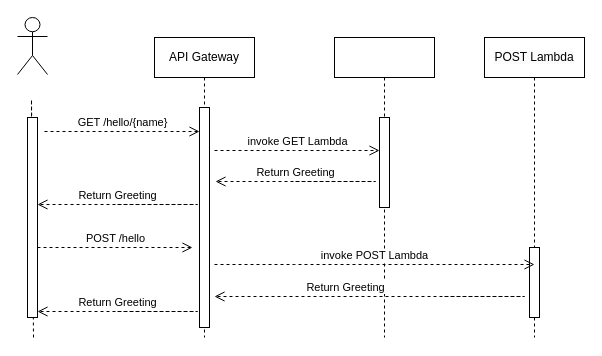
Image size: 602x356. Some labels were removed from this diagram. The box of each missing label's shape, as (x1, y1, x2, y2) in pixels:
GET Lambda: (334, 36, 434, 338)
User: (16, 16, 48, 74)
